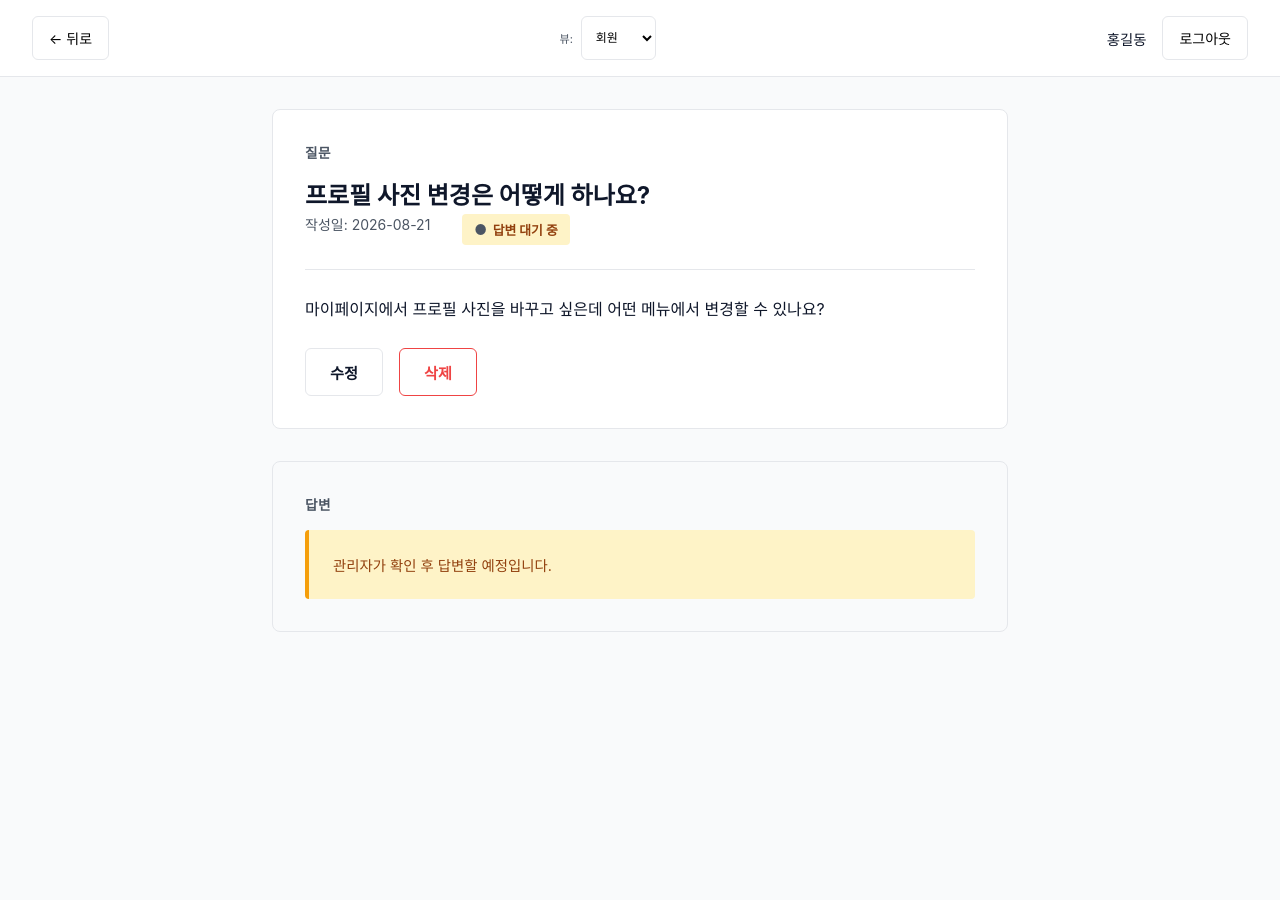
Test: 회원 권한 통합 테스트 › 수정 중 답변이 등록되어 상태가 바뀌면 저장 시 Toast로 차단 메시지를 보여준다 (FR-011, SC-006)
Click the button "수정": [344, 372] box x1=305 y1=348 x2=383 y2=396
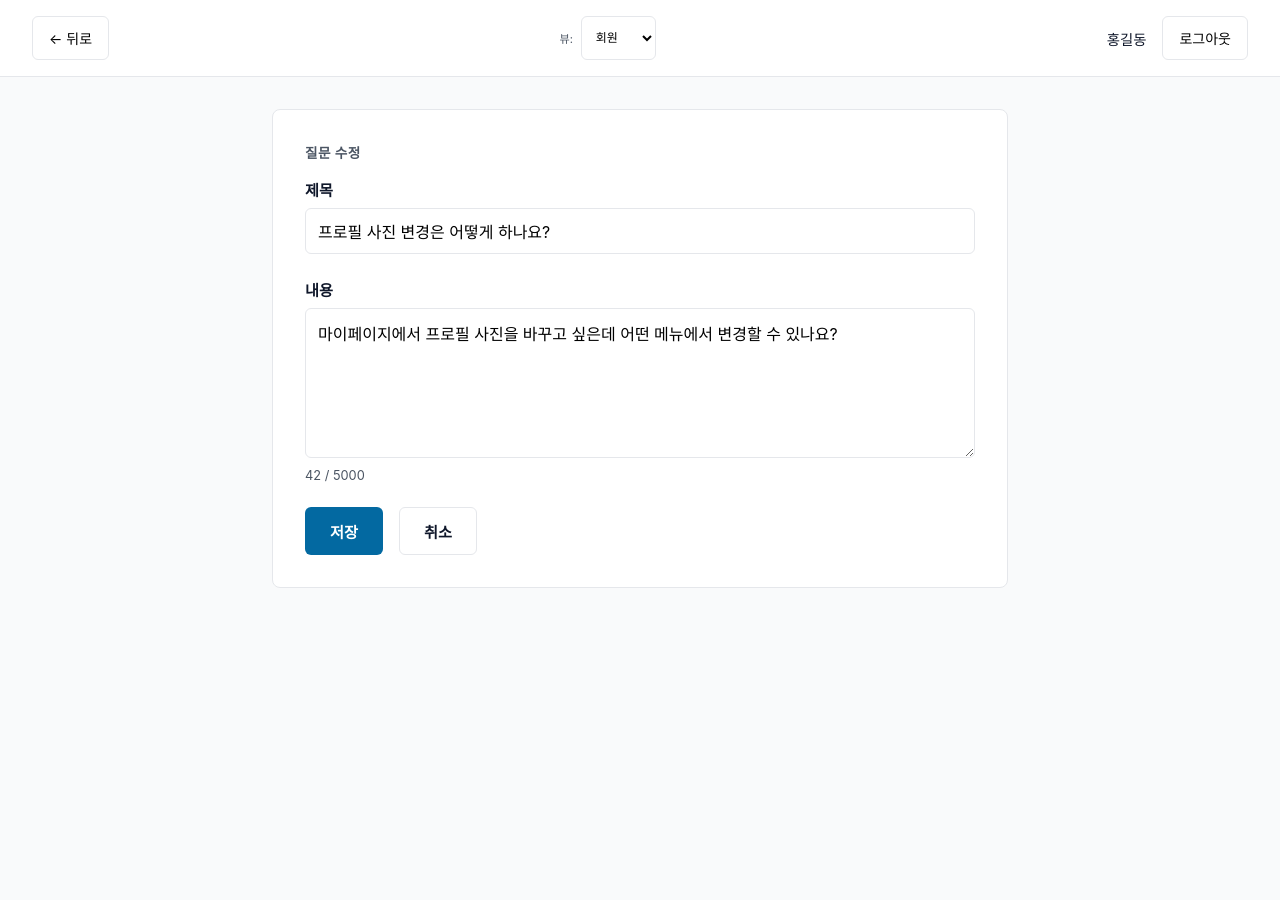
Click the button "저장": [344, 531] box x1=305 y1=507 x2=383 y2=555
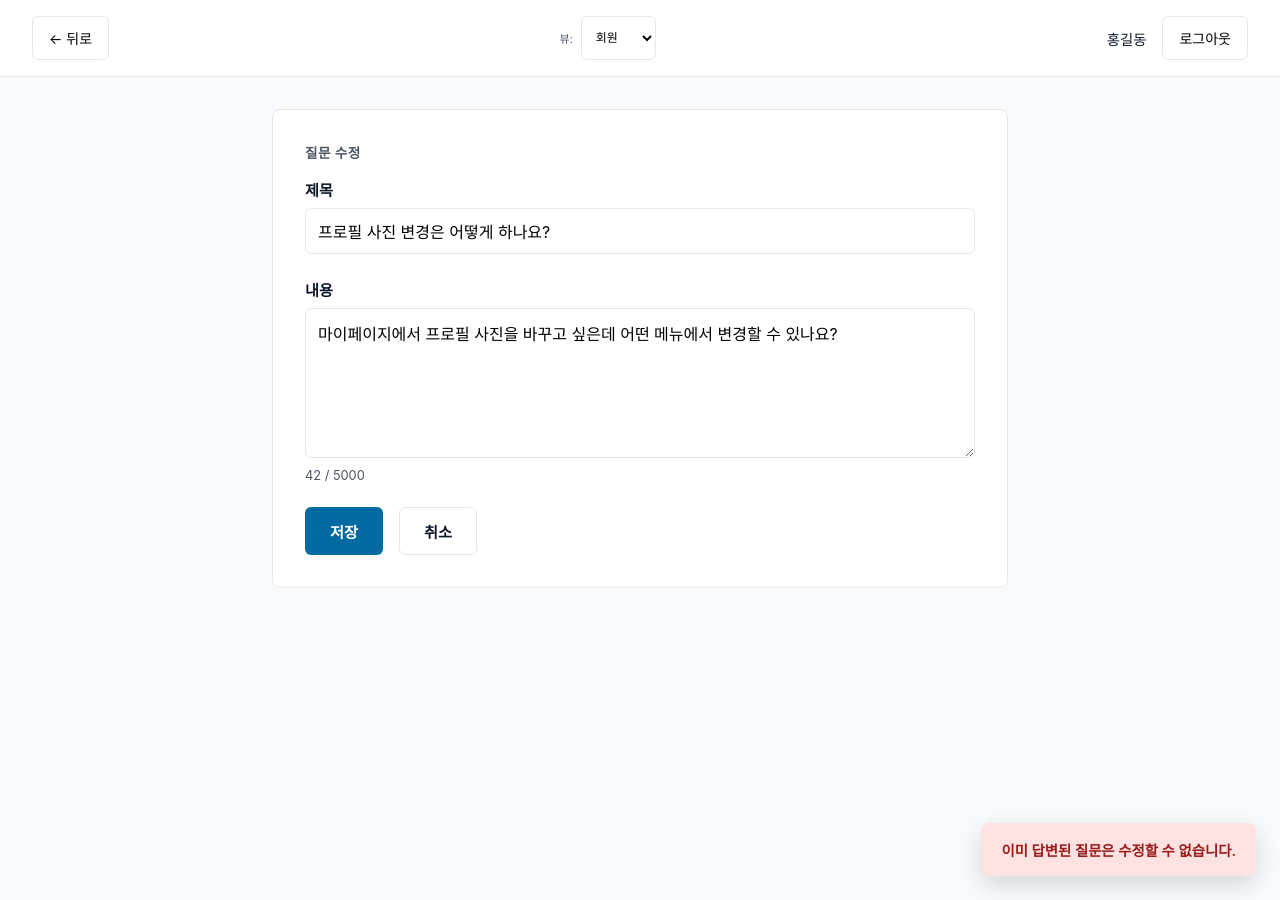
Now the message reads "이미 답변된 질문은 수정할 수 없습니다.", box x1=1001 y1=842 x2=1236 y2=859
